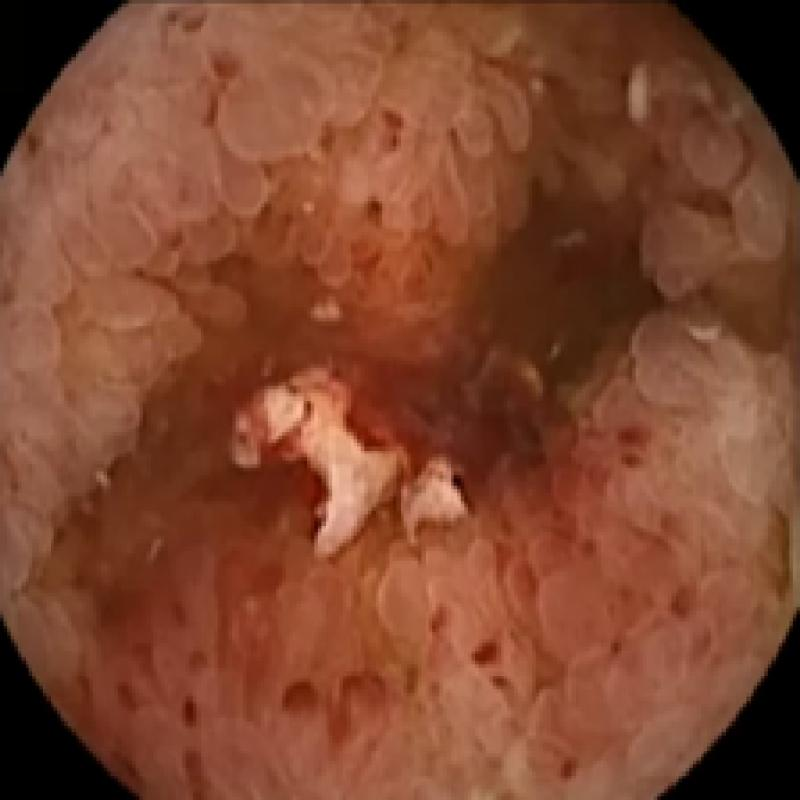bleeding: (282, 236, 604, 539)
